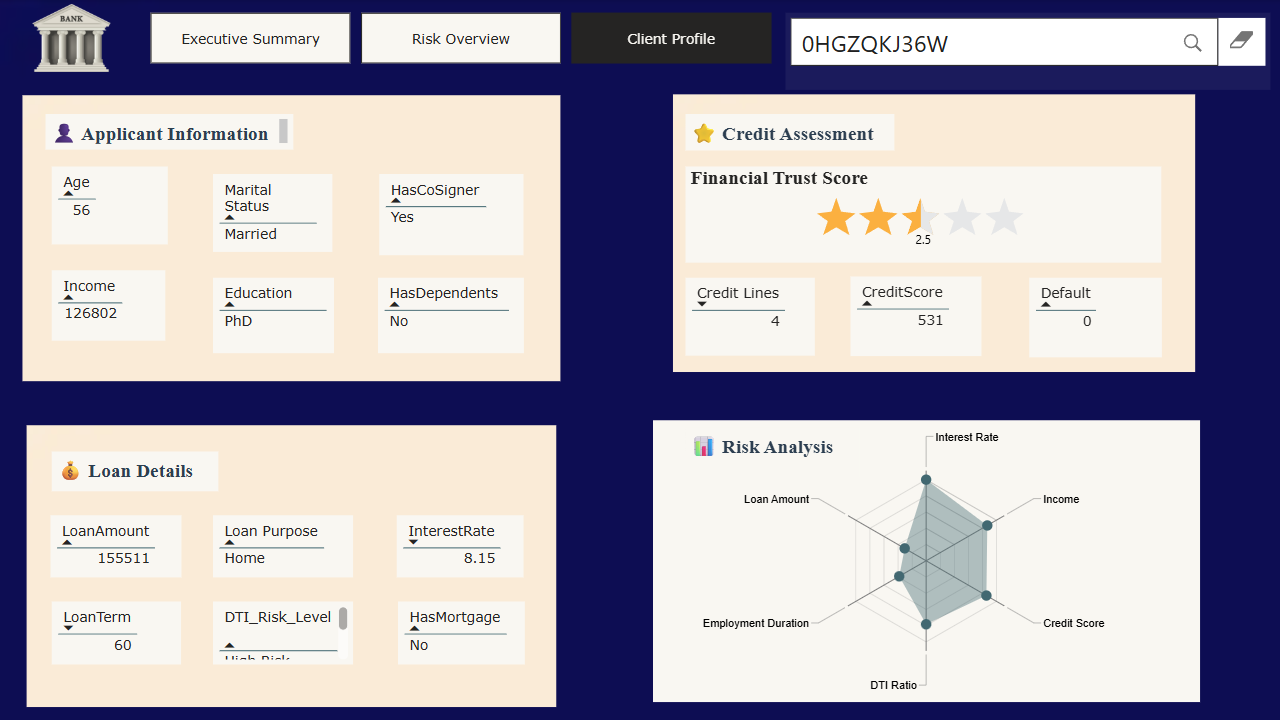

What the dashboard file says about the page in this screenshot:
{"tool":"powerbi","page":{"name":"Client Profile","canvas":[1280,720],"ordinal":2},"visuals":[{"type":"textFilter25A4896A83E0487089E2B90C9AE57C8A","fields":{"field":["loan_default_prediction loan_default_clean.LoanID"]},"box":[775.1,12.8,467.9,149.3],"z":0},{"type":"RadarChart1446119667547","fields":{"Category":["loan_default_prediction radar_chart_data.Category"],"Y":["Sum(loan_default_prediction radar_chart_data.Score)"]},"box":[647.1,406.8,527.6,271.6],"z":1000},{"type":"image","box":[15.6,88.2,564.6,285.9],"z":2000},{"type":"tableEx","fields":{"Values":["loan_default_prediction loan_default_clean.Education_Clean"]},"box":[221.9,268.8,116.6,72.5],"z":3000},{"type":"tableEx","fields":{"Values":["loan_default_prediction loan_default_clean.HasCoSigner"]},"box":[382.6,169.2,139.4,78.2],"z":4000},{"type":"tableEx","fields":{"Values":["loan_default_prediction loan_default_clean.Age"]},"box":[66.8,162.1,112.4,75.4],"z":5000},{"type":"tableEx","fields":{"Values":["loan_default_prediction loan_default_clean.HasDependents"]},"box":[381.2,268.8,140.8,72.5],"z":6000},{"type":"textbox","box":[59.7,110.9,238.9,34.1],"z":7000},{"type":"image","box":[15.6,406.8,564.6,281.6],"z":8000},{"type":"tableEx","fields":{"Values":["loan_default_prediction loan_default_clean.LoanAmount"]},"box":[65.4,497.8,126.6,59.7],"z":9000},{"type":"tableEx","fields":{"Values":["loan_default_prediction loan_default_clean.LoanPurpose_Clean"]},"box":[221.9,497.8,135.1,59.7],"z":10000},{"type":"tableEx","fields":{"Values":["loan_default_prediction loan_default_clean.InterestRate"]},"box":[399.6,497.8,122.3,59.7],"z":11000},{"type":"tableEx","fields":{"Values":["loan_default_prediction loan_default_clean.Income"]},"box":[66.8,261.7,109.5,68.3],"z":12000},{"type":"tableEx","fields":{"Values":["loan_default_prediction loan_default_clean.DTI_Risk_Level"]},"box":[221.9,581.7,135.1,61.2],"z":13000},{"type":"tableEx","fields":{"Values":["loan_default_prediction loan_default_clean.HasMortgage"]},"box":[401.1,581.7,122.3,61.2],"z":14000},{"type":"tableEx","fields":{"Values":["loan_default_prediction loan_default_clean.LoanTerm"]},"box":[66.8,581.7,125.2,61.2],"z":15000},{"type":"textbox","box":[66.8,436.6,160.7,38.4],"z":16000},{"type":"image","box":[661.3,78.2,513.4,295.8],"z":17000},{"type":"tableEx","fields":{"Values":["loan_default_prediction loan_default_clean.Credit Lines"]},"box":[678.4,268.8,125.2,75.4],"z":18000},{"type":"tableEx","fields":{"Values":["loan_default_prediction loan_default_clean.CreditScore"]},"box":[837.7,267.4,126.6,76.8],"z":19000},{"type":"tableEx","fields":{"Values":["loan_default_prediction loan_default_clean.Default"]},"box":[1009.8,268.8,128,76.8],"z":20000},{"type":"textbox","box":[678.4,413.9,167.8,46.9],"z":21000},{"type":"textbox","box":[678.4,110.9,202,35.6],"z":22000},{"type":"PBI_CV_9053509D_D461_463A_B485_CE9F6AB0F13D","title":"Financial Trust Score","fields":{"max":["CountNonNull(loan_default_prediction loan_default_clean.StarRating)"],"value":["Sum(loan_default_prediction loan_default_clean.CompositeScore)"]},"box":[678.4,162.1,459.4,92.4],"z":23000},{"type":"pageNavigator","box":[162.1,12.8,600.2,49.8],"z":24000},{"type":"tableEx","fields":{"Values":["loan_default_prediction loan_default_clean.MaritalStatus_Clean"]},"box":[221.9,169.2,115.2,75.4],"z":25000},{"type":"image","box":[37,0,96.7,75.4],"z":26000}]}

Visuals, with their boxes on the page's 1280x720 design canvas (x1, y1, x2, y2). These are canvas units, not pixel positions in the 1280x720 screenshot, which may show the page scaled, cropped or inside an application window:
textFilter25A4896A83E0487089E2B90C9AE57C8A - loan_default_prediction loan_default_clean.LoanID: <box>775,13,1243,162</box>
RadarChart1446119667547 - loan_default_prediction radar_chart_data.Category x Sum(loan_default_prediction radar_chart_data.Score): <box>647,407,1175,678</box>
image: <box>16,88,580,374</box>
tableEx - loan_default_prediction loan_default_clean.Education_Clean: <box>222,269,338,341</box>
tableEx - loan_default_prediction loan_default_clean.HasCoSigner: <box>383,169,522,247</box>
tableEx - loan_default_prediction loan_default_clean.Age: <box>67,162,179,238</box>
tableEx - loan_default_prediction loan_default_clean.HasDependents: <box>381,269,522,341</box>
textbox: <box>60,111,299,145</box>
image: <box>16,407,580,688</box>
tableEx - loan_default_prediction loan_default_clean.LoanAmount: <box>65,498,192,558</box>
tableEx - loan_default_prediction loan_default_clean.LoanPurpose_Clean: <box>222,498,357,558</box>
tableEx - loan_default_prediction loan_default_clean.InterestRate: <box>400,498,522,558</box>
tableEx - loan_default_prediction loan_default_clean.Income: <box>67,262,176,330</box>
tableEx - loan_default_prediction loan_default_clean.DTI_Risk_Level: <box>222,582,357,643</box>
tableEx - loan_default_prediction loan_default_clean.HasMortgage: <box>401,582,523,643</box>
tableEx - loan_default_prediction loan_default_clean.LoanTerm: <box>67,582,192,643</box>
textbox: <box>67,437,228,475</box>
image: <box>661,78,1175,374</box>
tableEx - loan_default_prediction loan_default_clean.Credit Lines: <box>678,269,804,344</box>
tableEx - loan_default_prediction loan_default_clean.CreditScore: <box>838,267,964,344</box>
tableEx - loan_default_prediction loan_default_clean.Default: <box>1010,269,1138,346</box>
textbox: <box>678,414,846,461</box>
textbox: <box>678,111,880,146</box>
"Financial Trust Score" PBI_CV_9053509D_D461_463A_B485_CE9F6AB0F13D: <box>678,162,1138,254</box>
pageNavigator: <box>162,13,762,63</box>
tableEx - loan_default_prediction loan_default_clean.MaritalStatus_Clean: <box>222,169,337,245</box>
image: <box>37,0,134,75</box>
